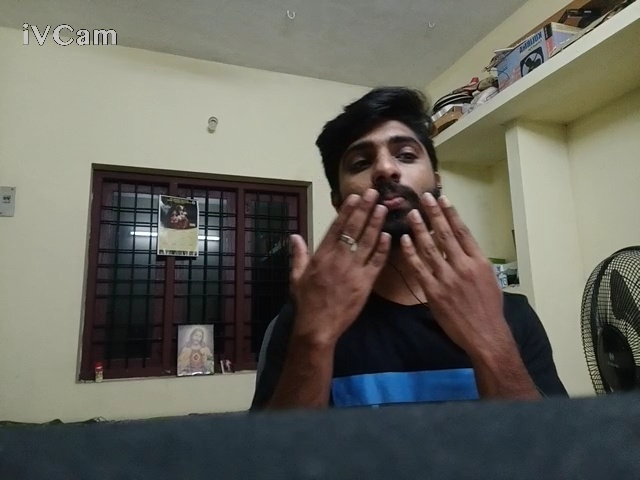Thank You: (255, 178, 556, 480)
